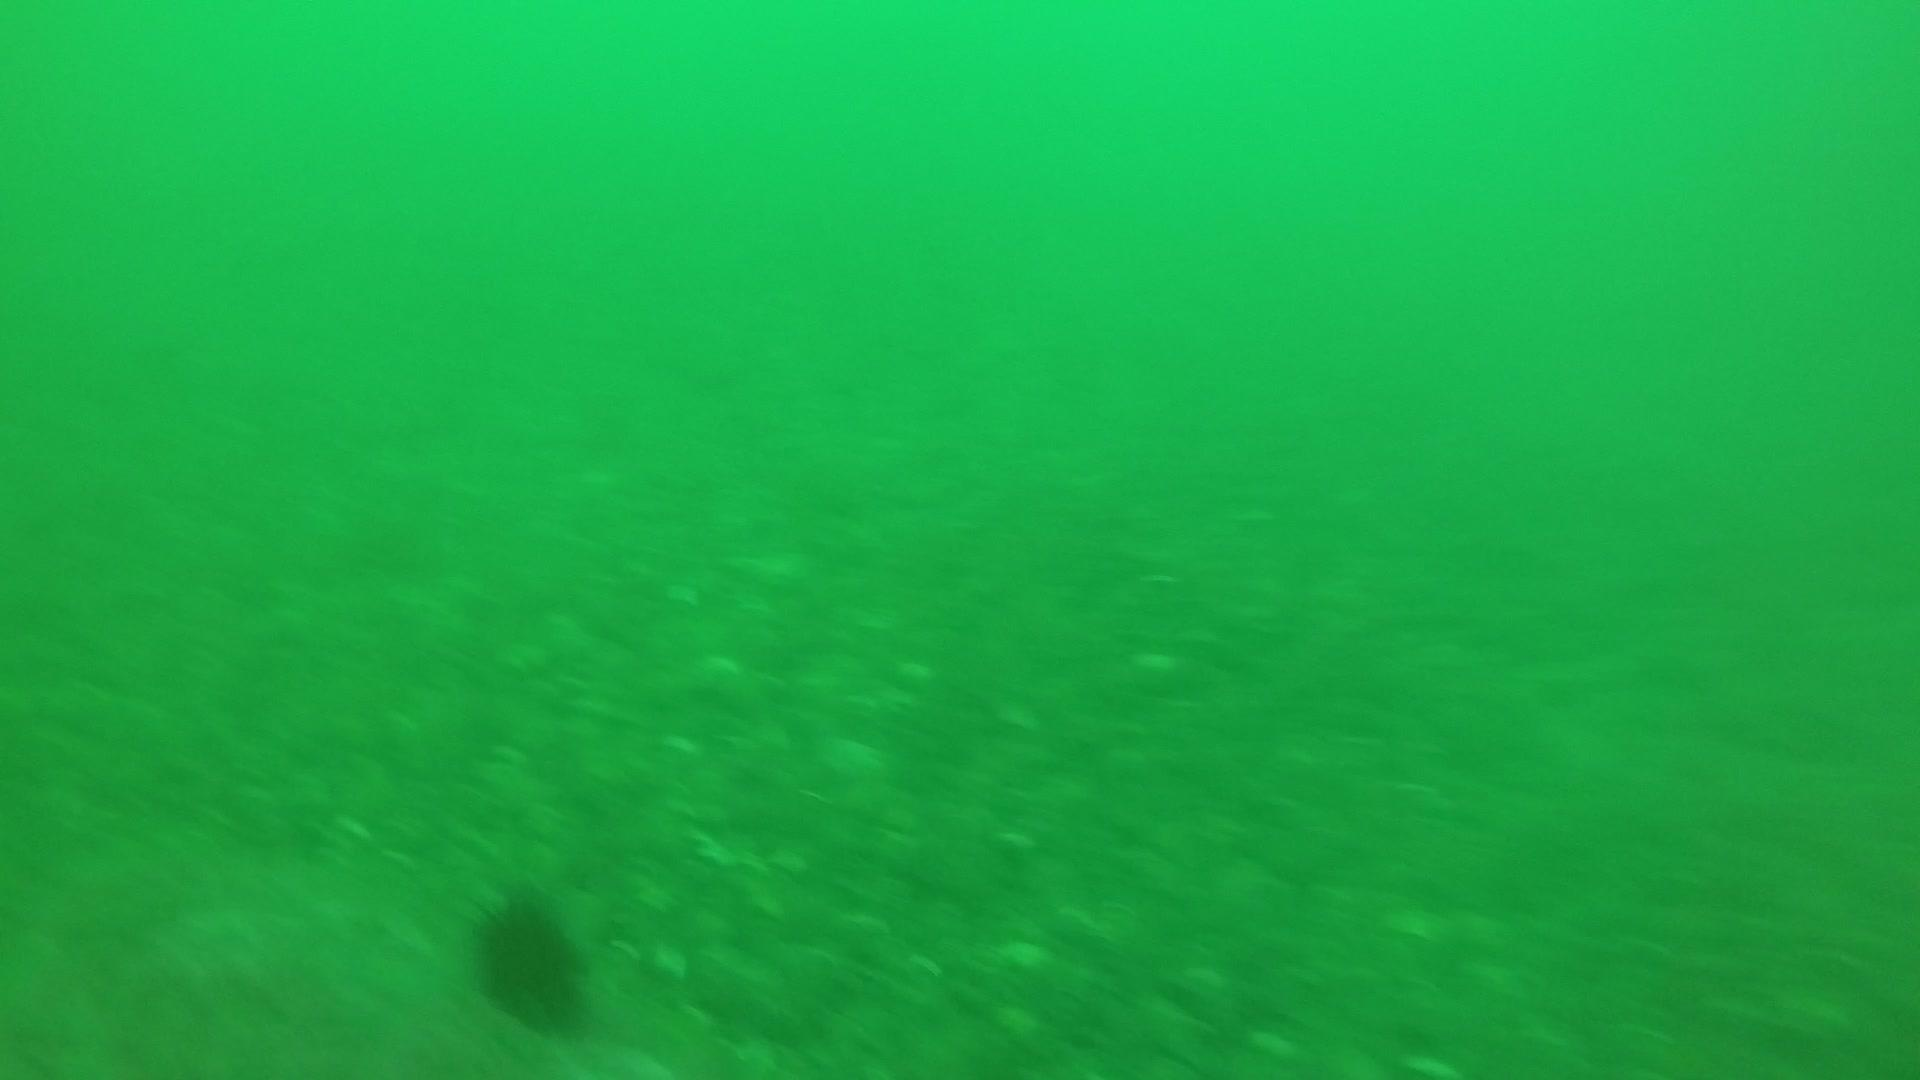echinus: (465, 887, 596, 1034)
